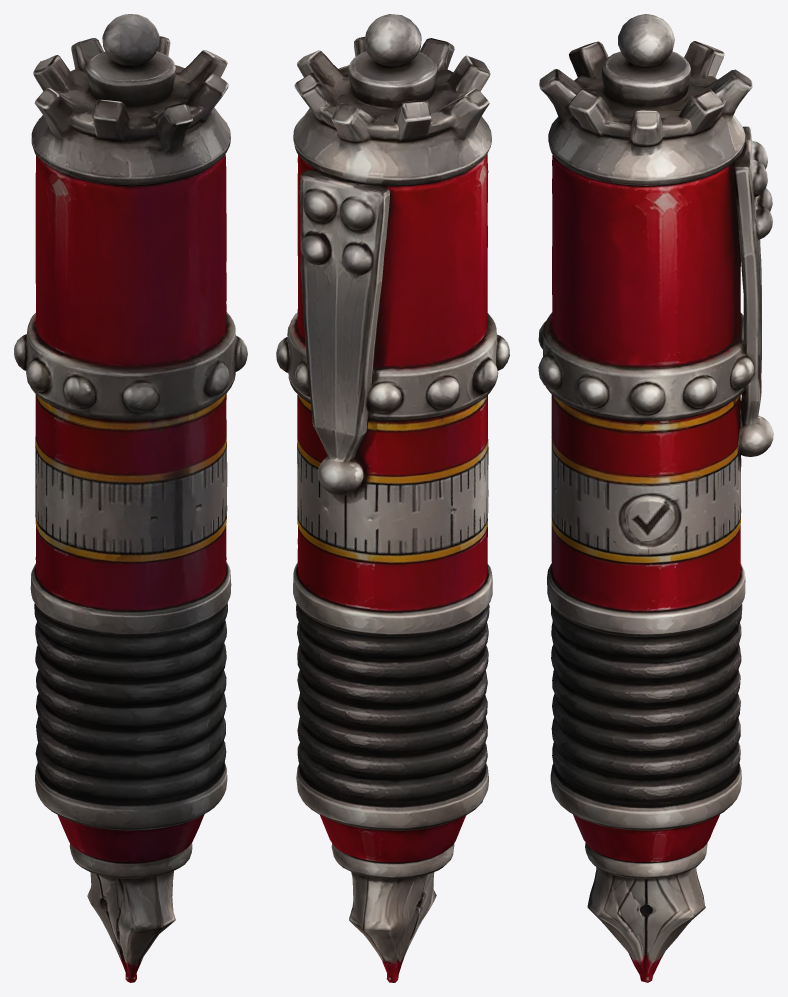
The model's file is red_pen.glb.
The picture shows the model from 3 angles, left to right: view 1: azimuth 30°, elevation 25°; view 2: azimuth 150°, elevation 25°; view 3: azimuth 270°, elevation 25°; orthographic projection.
Visible parts, largest first — view 1: tripo_node_4f0765d3-307b-4563-bb89-944069bb7f39; view 2: tripo_node_4f0765d3-307b-4563-bb89-944069bb7f39; view 3: tripo_node_4f0765d3-307b-4563-bb89-944069bb7f39.
Boxes of the visible parts, x1,y1,x2,y2 form: tripo_node_4f0765d3-307b-4563-bb89-944069bb7f39: [14, 14, 247, 982]; tripo_node_4f0765d3-307b-4563-bb89-944069bb7f39: [276, 14, 509, 982]; tripo_node_4f0765d3-307b-4563-bb89-944069bb7f39: [538, 14, 773, 982].
Bounding box in the file's own units: 1.66 × 7.5 × 1.65.
1 material, 1 textured.
